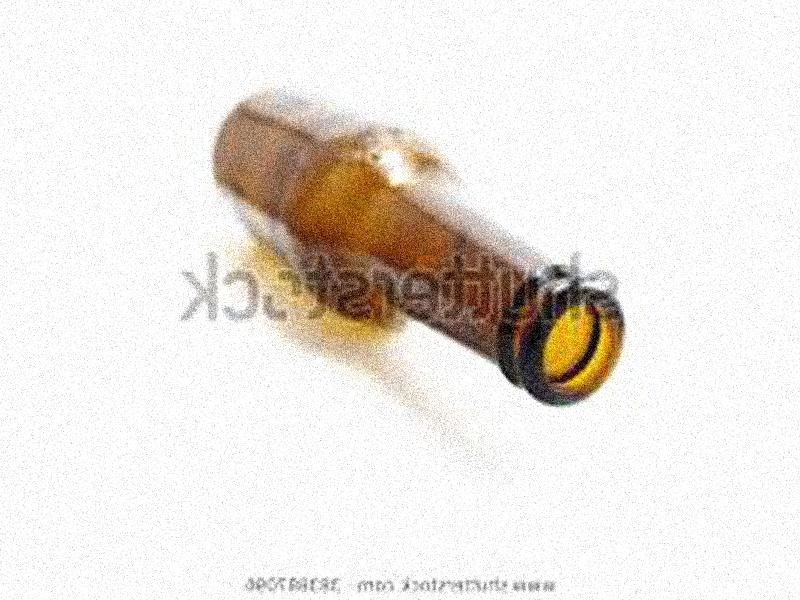Beer: (211, 89, 626, 409)
